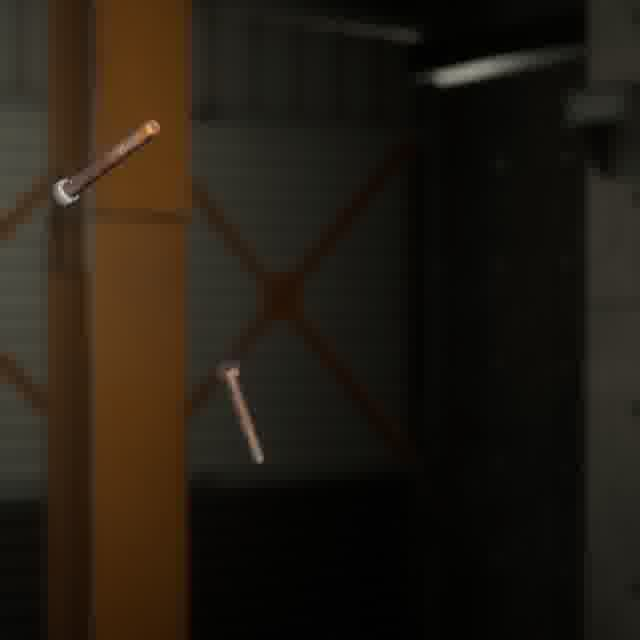bolt: (48, 115, 164, 210), (212, 355, 269, 467)
